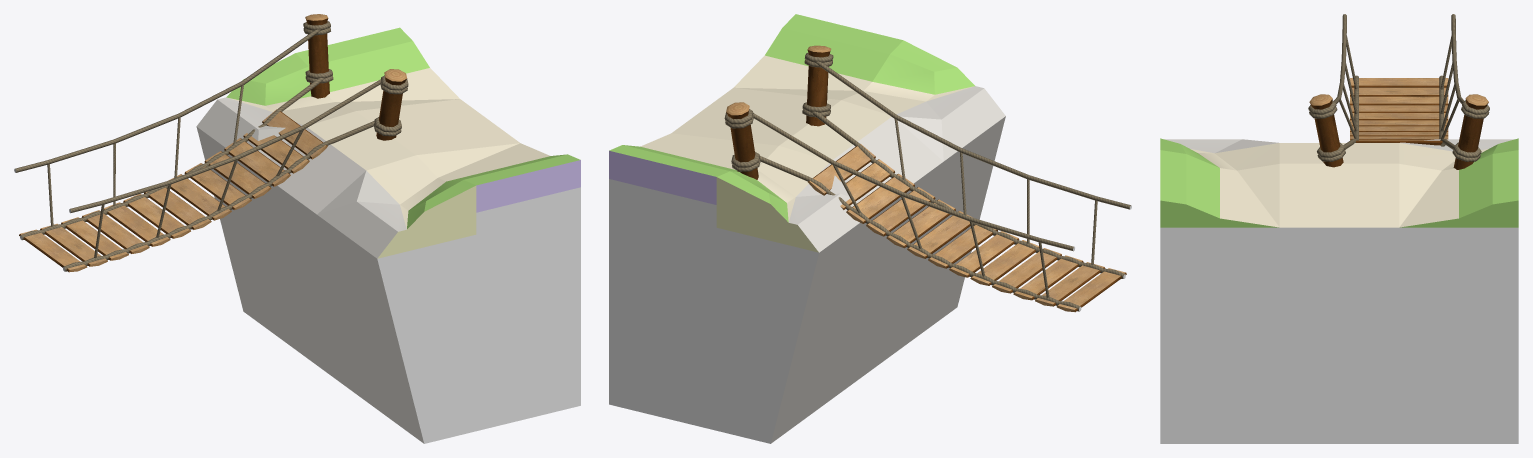
File: Cliff_Bridge.glb
3 views of the same model, side by side, from view 1: azimuth 30°, elevation 25°; view 2: azimuth 150°, elevation 25°; view 3: azimuth 270°, elevation 25° (orthographic). The views are drawn at different scales.
Parts seen in each view (by area): view 1: Path_Bridge_Edge_Top_1x2 (×2), Prop_Bridge_Rope_End_Basic_1x3, Path_Bridge_Center_Top_1x2; view 2: Path_Bridge_Edge_Top_1x2 (×2), Prop_Bridge_Rope_End_Basic_1x3, Path_Bridge_Center_Top_1x2; view 3: Path_Bridge_Edge_Top_1x2 (×2), Path_Bridge_Center_Top_1x2, Prop_Bridge_Rope_End_Basic_1x3.
Boxes of the visible parts, box(x1,y1,x2,y2) form: Path_Bridge_Edge_Top_1x2 (×2): box(196, 27, 580, 443); Prop_Bridge_Rope_End_Basic_1x3: box(14, 14, 408, 272); Path_Bridge_Center_Top_1x2: box(258, 99, 520, 399); Path_Bridge_Edge_Top_1x2 (×2): box(609, 14, 1005, 443); Prop_Bridge_Rope_End_Basic_1x3: box(724, 45, 1131, 312); Path_Bridge_Center_Top_1x2: box(671, 87, 943, 397); Path_Bridge_Edge_Top_1x2 (×2): box(1160, 138, 1518, 443); Path_Bridge_Center_Top_1x2: box(1279, 143, 1399, 443); Prop_Bridge_Rope_End_Basic_1x3: box(1308, 14, 1489, 169).
Size of the model in its own units: 400 by 274 by 300.
Materials: 11 (4 with a texture image).
